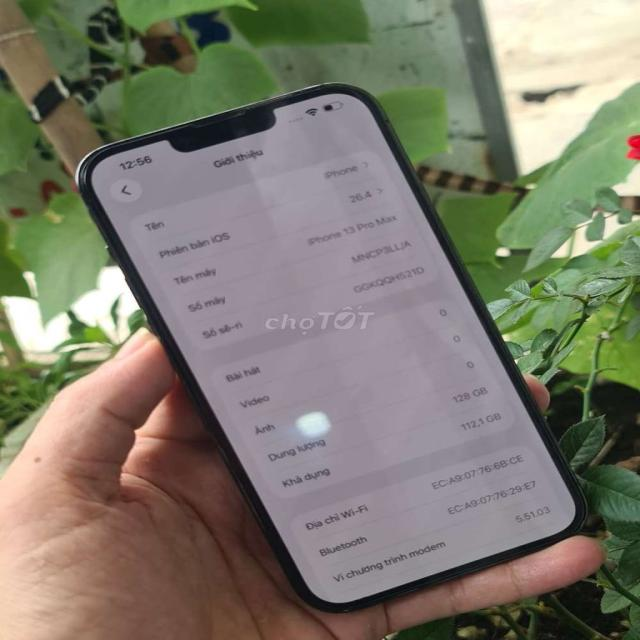gen_12_13: (68, 78, 590, 615)
